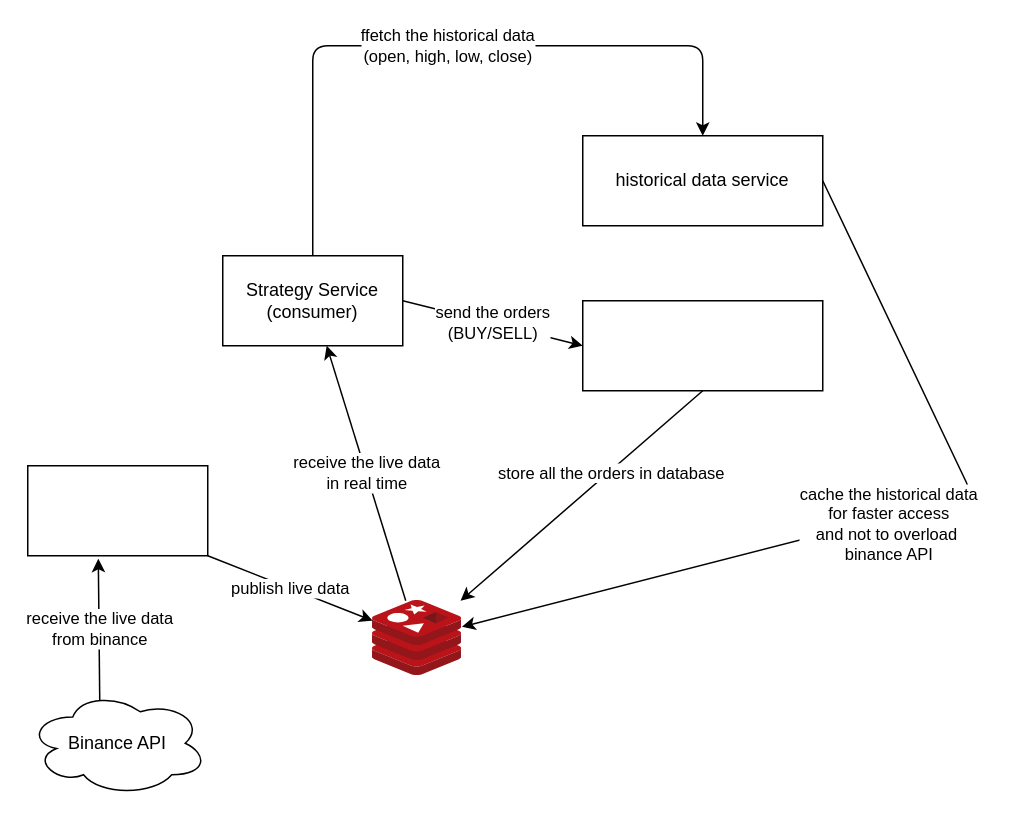
The diagram is 1011 pixels wide and 822 high, and some of its shapes have lost their labels. The shapes that lost their labels are listed below. From the top down, each one's centre as x and y in pixels, then its label:
(702,345): portfolio service
(117,510): Live Data Service (publisher)
